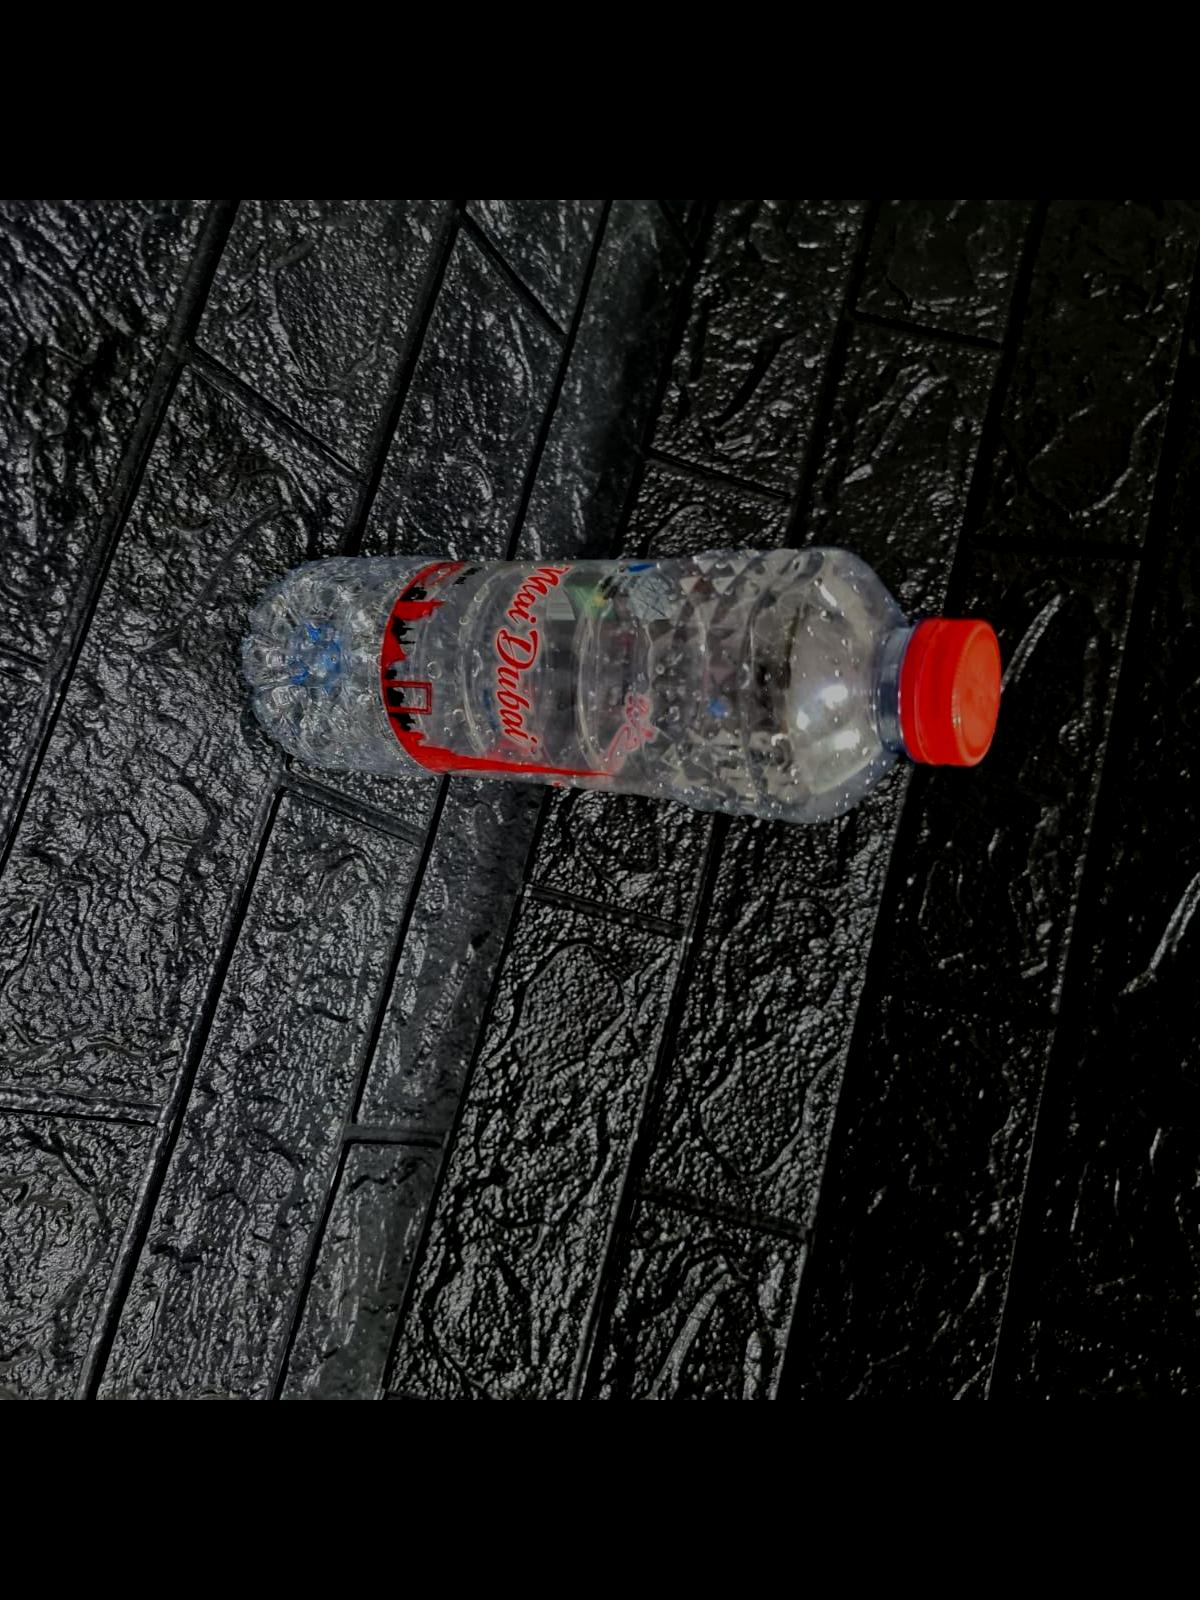bottle: (246, 535, 1016, 808)
